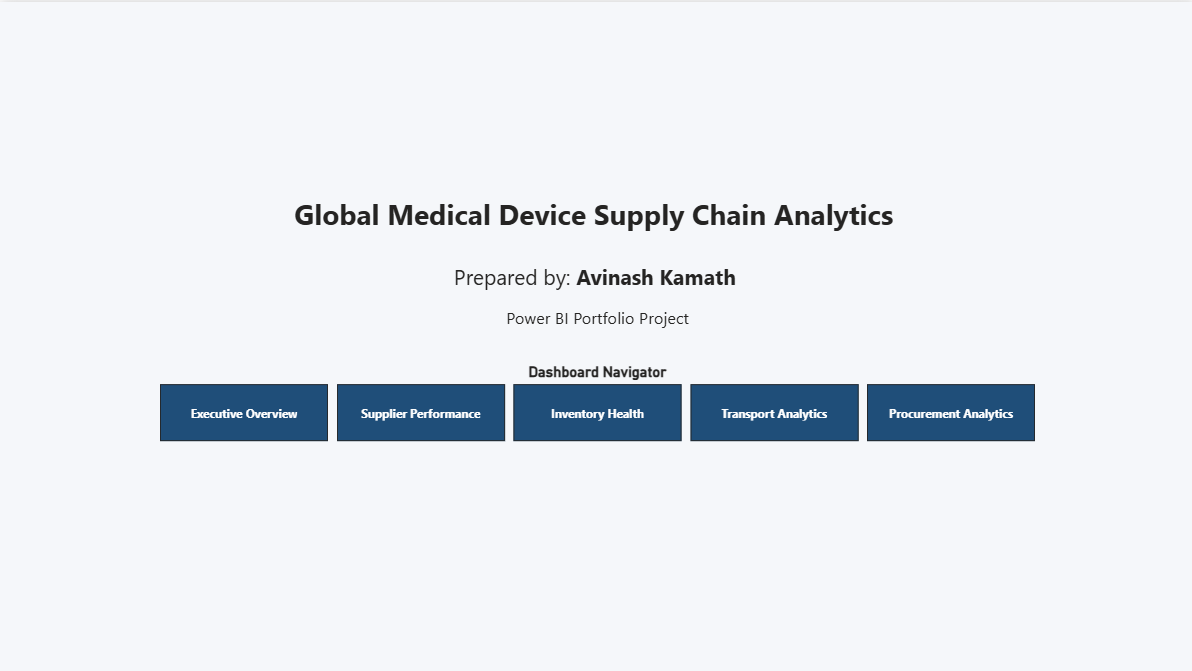

Layout of this report page (visuals, bound fields, positions):
{"tool":"powerbi","page":{"name":"Landing Page","canvas":[1366,768],"ordinal":0},"visuals":[{"type":"textbox","box":[201.7,215,963.3,168.3],"z":0},{"type":"pageNavigator","title":"Dashboard Navigator","box":[183.3,413.3,1000,90],"z":1000}]}

Visuals, with their boxes in screenshot pixels (x1, y1, x2, y2), scaled from the page's 1366x768 canvas onto the 1192x671 screenshot:
textbox: crop(176, 188, 1017, 335)
"Dashboard Navigator" pageNavigator: crop(160, 361, 1033, 440)
